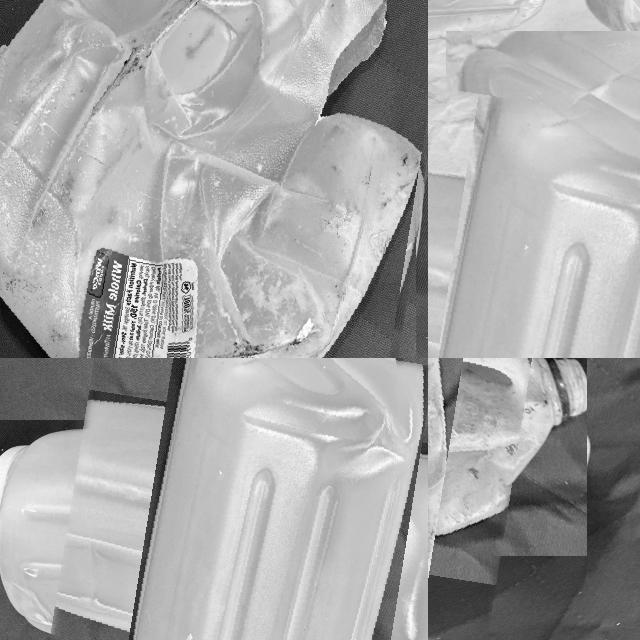milk-jug: (0, 0, 428, 358), (52, 358, 428, 640), (428, 97, 640, 358), (428, 358, 533, 637)
